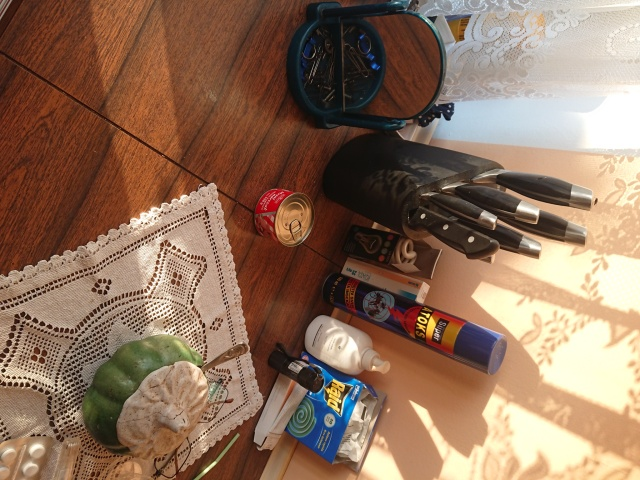Podravka Luncheon Meat 150g: (251, 187, 319, 250)
